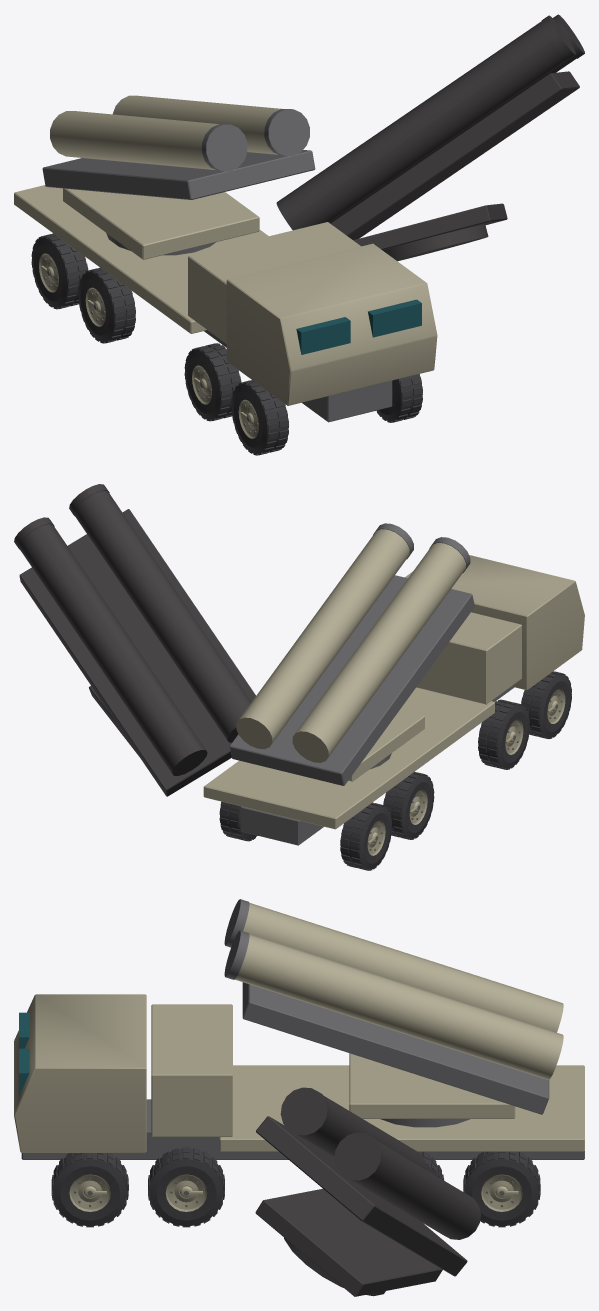
Rendered from coastalASM__k_300p_bastion_p.glb.
3 renders of one model, top to bottom at view 1: azimuth 30°, elevation 25°; view 2: azimuth 150°, elevation 25°; view 3: azimuth 270°, elevation 25°, orthographic. The views are drawn at different scales.
Visible parts, largest first — view 1: Hull_Mesh, Wreck, Gun_Mesh, Turret_Mesh, Wheel_L1_Mesh, Wheel_L3_Mesh, Wheel_L2_Mesh, Wheel_L0_Mesh, Wheel_R3_Mesh; view 2: Wreck, Gun_Mesh, Hull_Mesh, Wheel_L2_Mesh, Wheel_L0_Mesh, Wheel_L1_Mesh, Wheel_L3_Mesh, Turret_Mesh, Wheel_R0_Mesh; view 3: Hull_Mesh, Gun_Mesh, Wreck, Turret_Mesh, Wheel_R2_Mesh, Wheel_R3_Mesh, Wheel_R0_Mesh.
Part boxes in pixels (x1,y1,x2,y2): Hull_Mesh: (14, 185, 437, 422); Wreck: (50, 14, 584, 450); Gun_Mesh: (42, 95, 315, 199); Turret_Mesh: (63, 188, 259, 259); Wheel_L1_Mesh: (78, 267, 135, 343); Wheel_L3_Mesh: (231, 380, 288, 455); Wheel_L2_Mesh: (184, 343, 241, 421); Wheel_L0_Mesh: (31, 233, 88, 309); Wheel_R3_Mesh: (376, 374, 422, 422); Wreck: (14, 484, 551, 869); Gun_Mesh: (229, 523, 474, 785); Hull_Mesh: (203, 555, 584, 845); Wheel_L2_Mesh: (478, 699, 529, 769); Wheel_L0_Mesh: (340, 802, 392, 870); Wheel_L1_Mesh: (383, 771, 434, 839); Wheel_L3_Mesh: (521, 671, 571, 738); Turret_Mesh: (348, 710, 424, 781); Wheel_R0_Mesh: (219, 801, 257, 841); Hull_Mesh: (14, 994, 584, 1159); Gun_Mesh: (224, 899, 563, 1114); Wreck: (98, 1087, 515, 1296); Turret_Mesh: (349, 1053, 515, 1127); Wheel_R2_Mesh: (148, 1147, 224, 1227); Wheel_R3_Mesh: (51, 1153, 128, 1227); Wheel_R0_Mesh: (463, 1151, 540, 1227).
Size of what is drawn, in the model's own units: 8.35 by 4.51 by 8.6.
